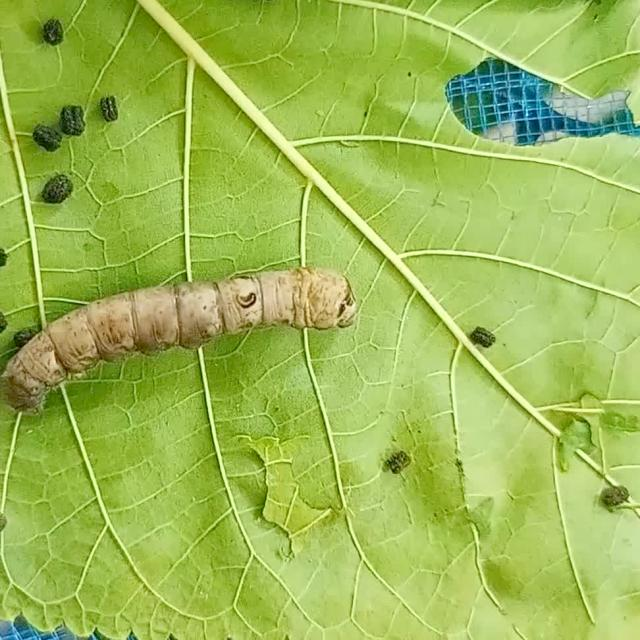Grasserie: (3, 242, 378, 443)
